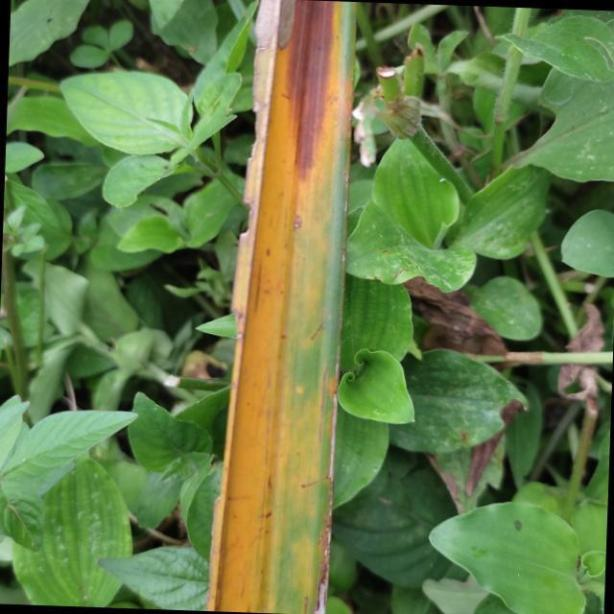Megnesium: (206, 0, 357, 614)
